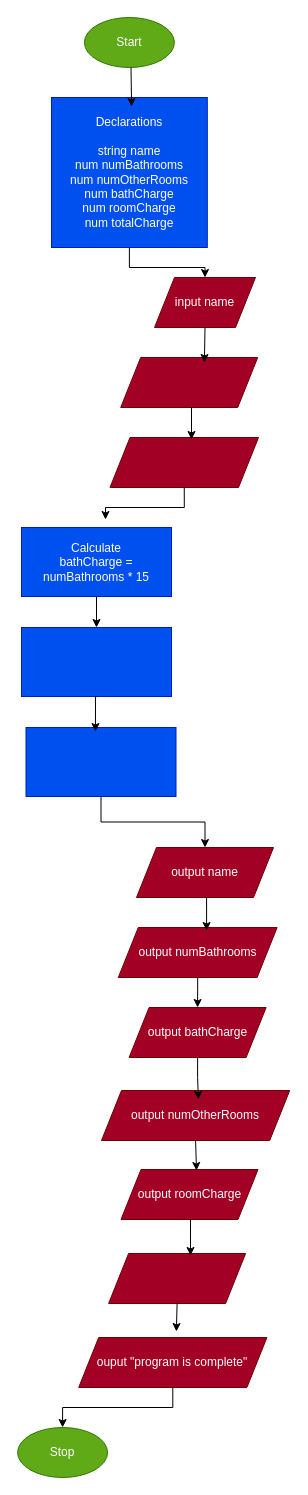
This 308x1495 diagram has some shape labels left out. Each missing label, with the centre of its shape:
"Calculate roomCharge = numOtherRooms * 10" belongs at point 96,661.
"Calculate totalCharge = bathCharge + roomCharge + 40" belongs at point 100,761.
"input numBathrooms" belongs at point 189,382.
"input numOtherRooms" belongs at point 183,462.
"output totalCharge" belongs at point 177,1278.
